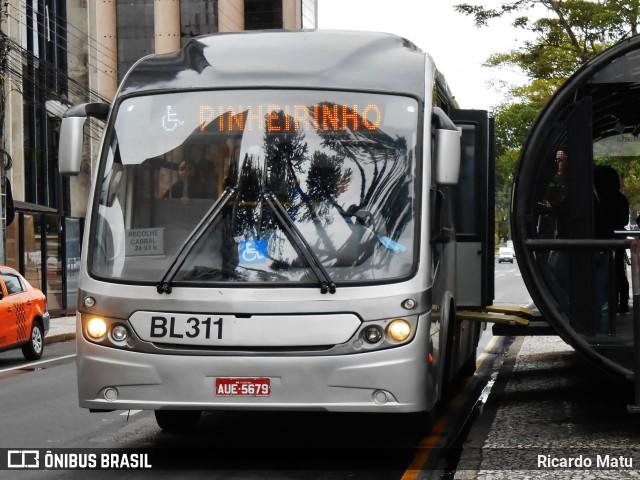PINHEIRINHO: (194, 101, 385, 133)
